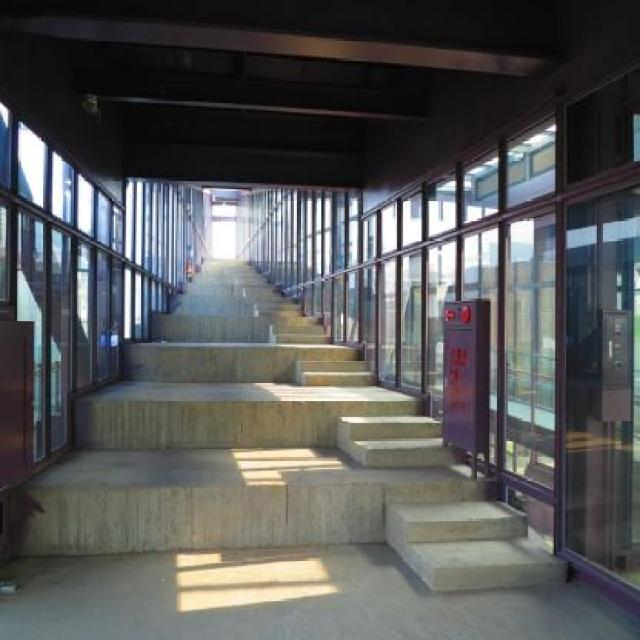stair: (383, 497, 569, 595), (338, 410, 471, 470), (297, 360, 380, 385), (270, 325, 332, 343), (255, 302, 300, 316), (244, 286, 278, 299)
